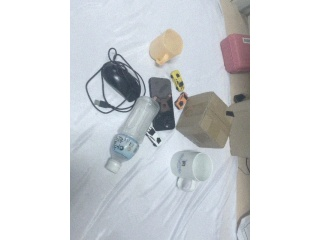bottle: (105, 96, 169, 175)
box: (177, 92, 229, 149)
cup: (170, 150, 213, 189), (148, 27, 184, 67)
mouse: (101, 61, 142, 103)
phone: (147, 72, 174, 131)
toy_car: (146, 127, 165, 148), (170, 70, 184, 93), (174, 91, 188, 110)
